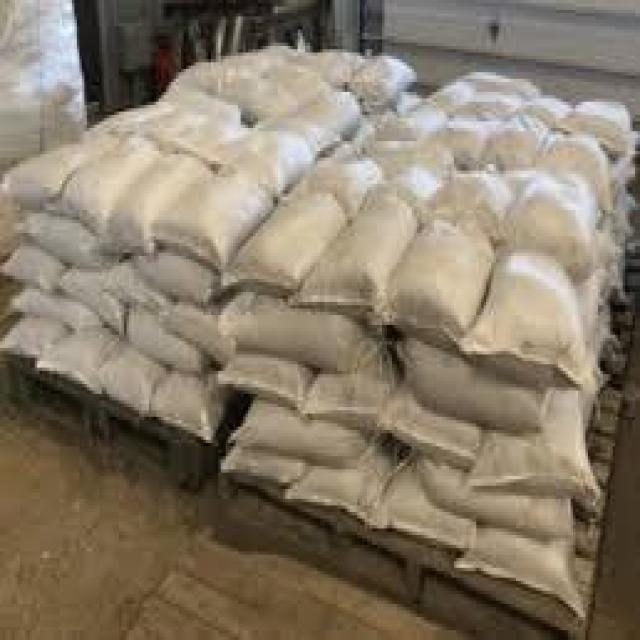gunny_bag: (463, 251, 591, 386), (469, 385, 606, 511), (373, 207, 496, 344), (287, 188, 420, 307), (397, 340, 550, 437), (414, 461, 574, 544), (218, 190, 345, 294), (222, 292, 385, 373), (94, 150, 212, 256), (457, 522, 586, 615), (158, 171, 273, 275), (46, 133, 158, 238), (230, 399, 366, 470), (364, 479, 482, 554), (505, 174, 601, 266), (4, 133, 119, 204), (380, 394, 479, 472), (303, 359, 397, 434), (295, 453, 394, 523), (140, 90, 242, 154), (222, 128, 313, 199), (18, 209, 116, 273), (419, 171, 516, 235), (280, 160, 383, 220), (215, 351, 308, 413), (148, 373, 227, 444), (127, 307, 209, 370), (37, 334, 118, 392), (137, 249, 217, 307), (97, 345, 162, 415), (161, 304, 233, 367), (12, 287, 101, 337), (562, 99, 630, 159), (63, 266, 123, 332), (219, 448, 307, 486), (227, 76, 298, 123), (488, 112, 550, 165), (296, 91, 363, 140), (373, 138, 455, 177), (435, 120, 499, 169), (265, 61, 327, 110), (264, 116, 335, 158), (4, 242, 65, 290), (1, 316, 68, 358), (380, 99, 447, 141), (350, 57, 411, 97), (537, 136, 599, 173), (523, 92, 575, 131), (456, 90, 523, 118), (431, 78, 474, 115)
